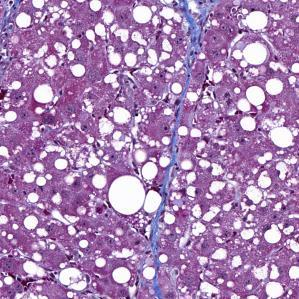fibrosis: (173, 0, 220, 69)
